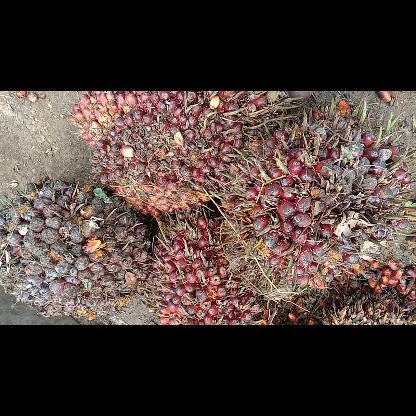Kurang masak: (0, 173, 159, 322)
TBS masak: (209, 106, 415, 292), (66, 92, 304, 220), (141, 210, 276, 324)
